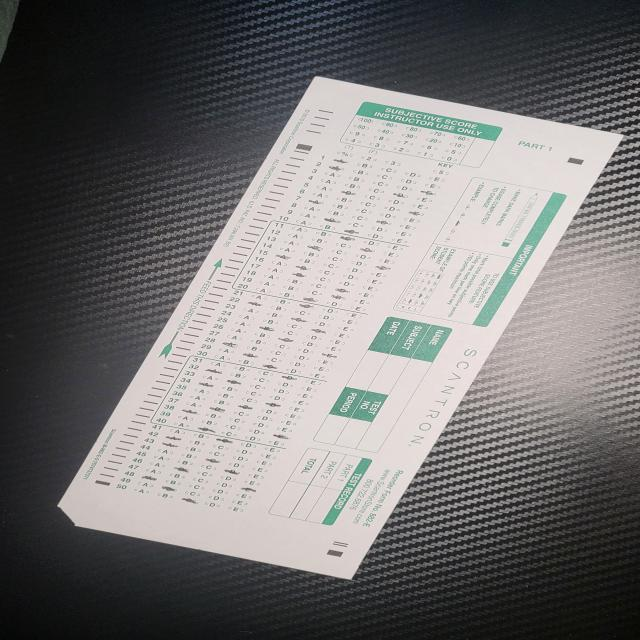scantron: (57, 76, 625, 580)
